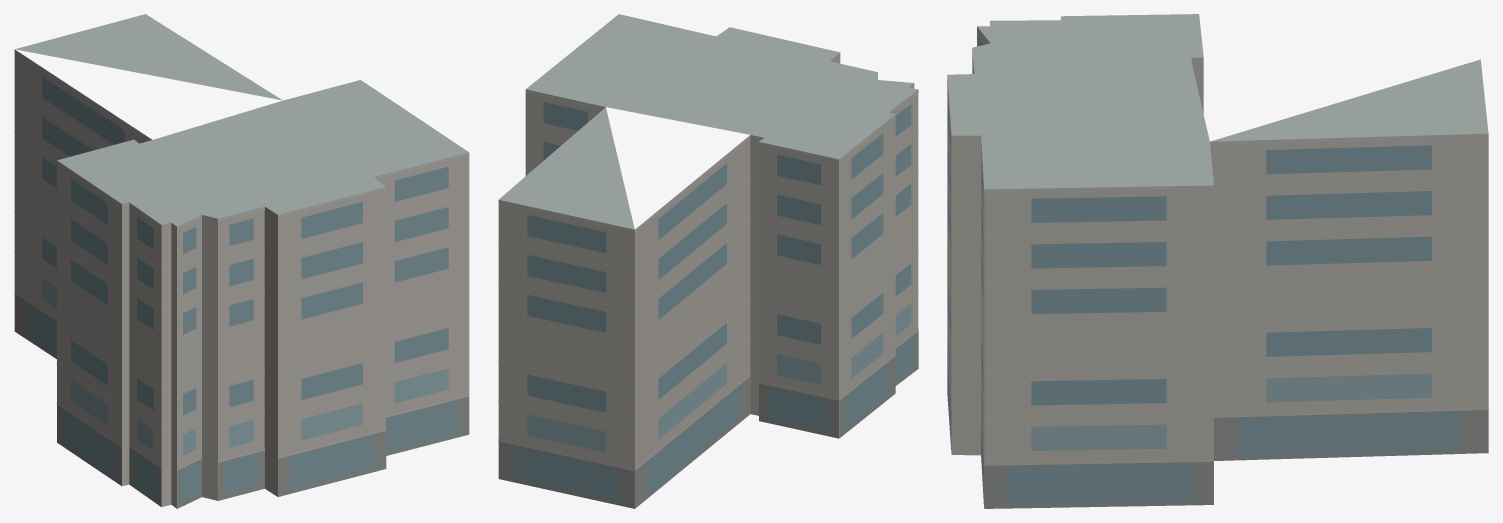
The model's file is survey-upis-33011085.glb.
3 renders of one model, left to right at view 1: azimuth 30°, elevation 25°; view 2: azimuth 150°, elevation 25°; view 3: azimuth 270°, elevation 25°, orthographic. The views are drawn at different scales.
Visible parts, largest first — view 1: survey-upis-33011085.tmp; view 2: survey-upis-33011085.tmp; view 3: survey-upis-33011085.tmp.
Boxes of the visible parts, left/top/right/bottom form: survey-upis-33011085.tmp: left=14, top=14, right=469, bottom=508; survey-upis-33011085.tmp: left=498, top=14, right=918, bottom=508; survey-upis-33011085.tmp: left=947, top=14, right=1488, bottom=508.
Size of the model in its own units: 25.1 by 21.3 by 32.72.
